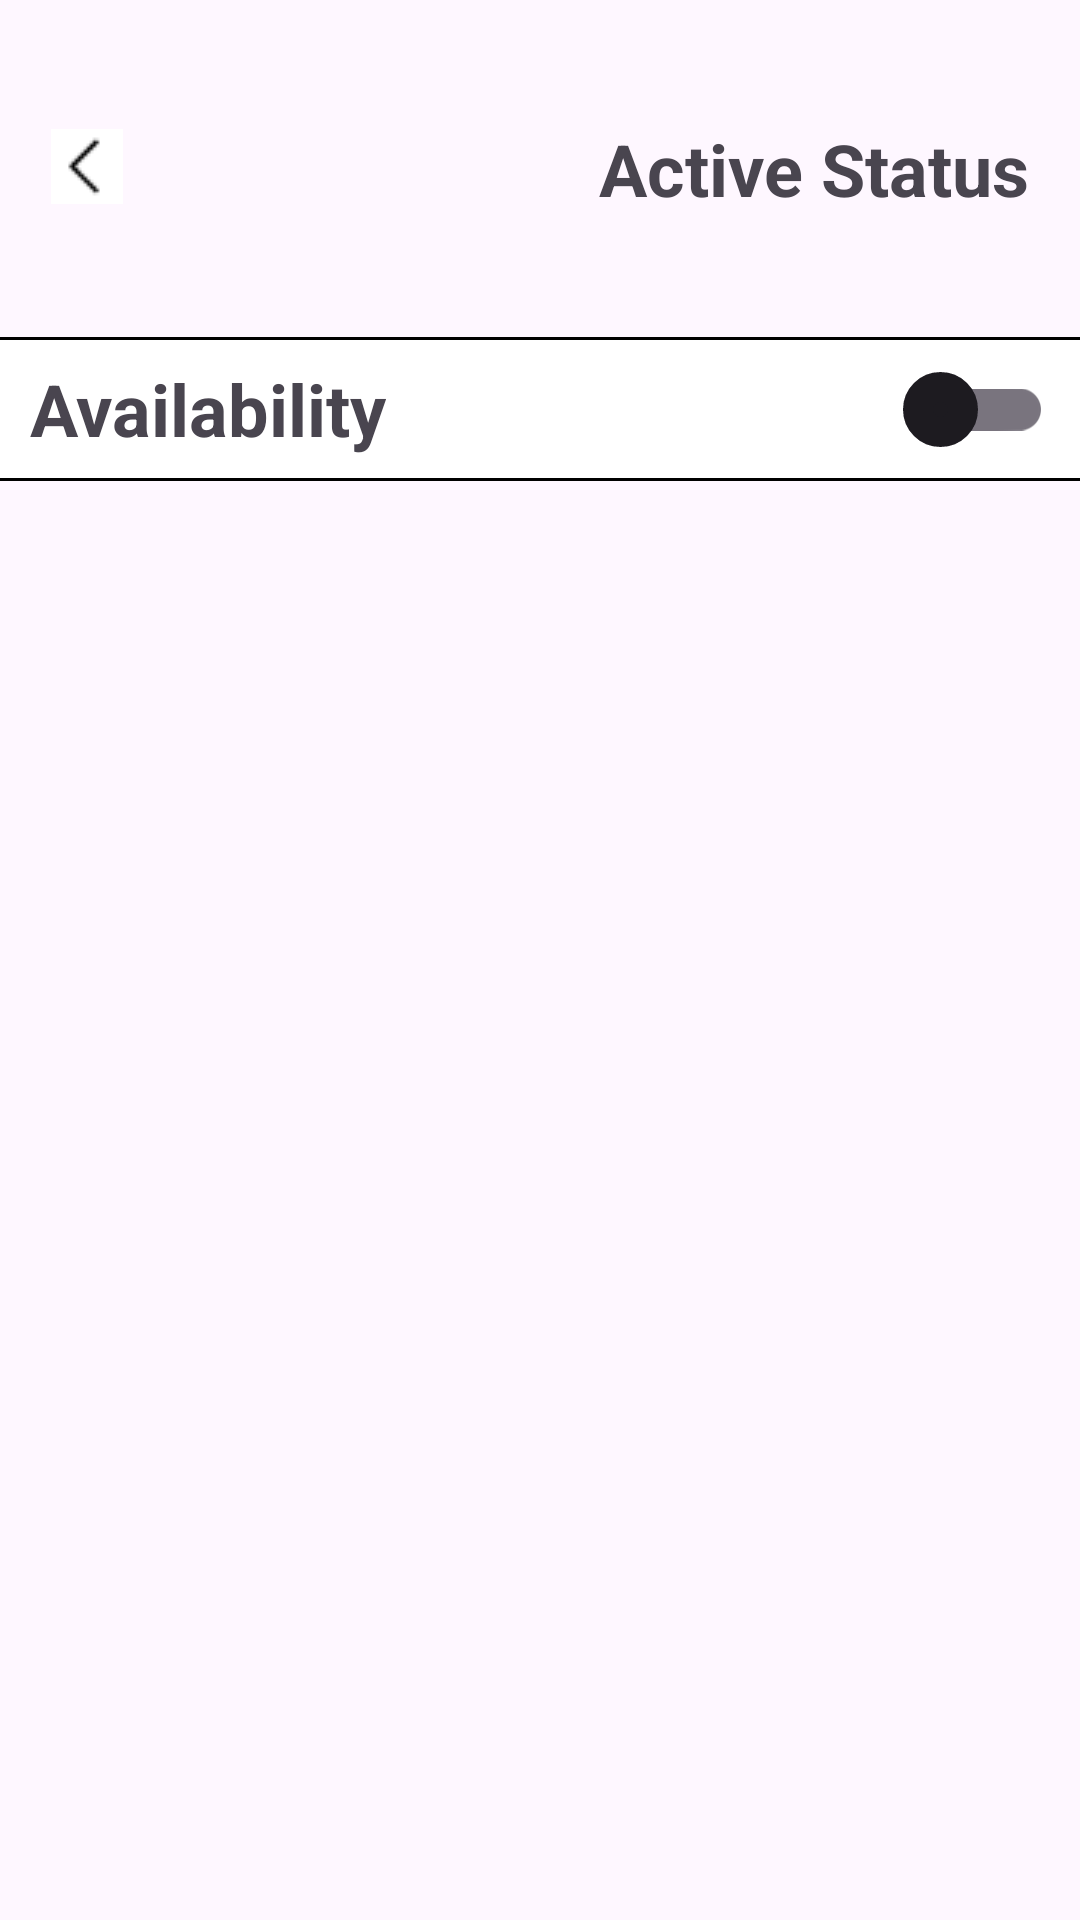

Point at icon controls on the screen. Image size 1080×1920, points as [x,y].
back: [84,166]
